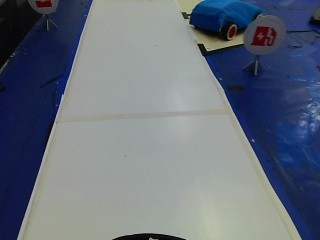battery: (247, 22, 279, 49)
